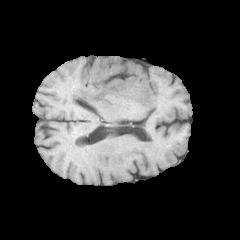glioma: (62, 62, 160, 111)
